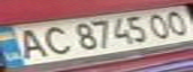4: (109, 15, 136, 46)
5: (124, 12, 151, 44)
7: (90, 17, 115, 50)
8: (72, 19, 96, 52)
A: (9, 26, 51, 61)
C: (33, 24, 75, 56)
O: (142, 10, 175, 39), (160, 7, 193, 36)
